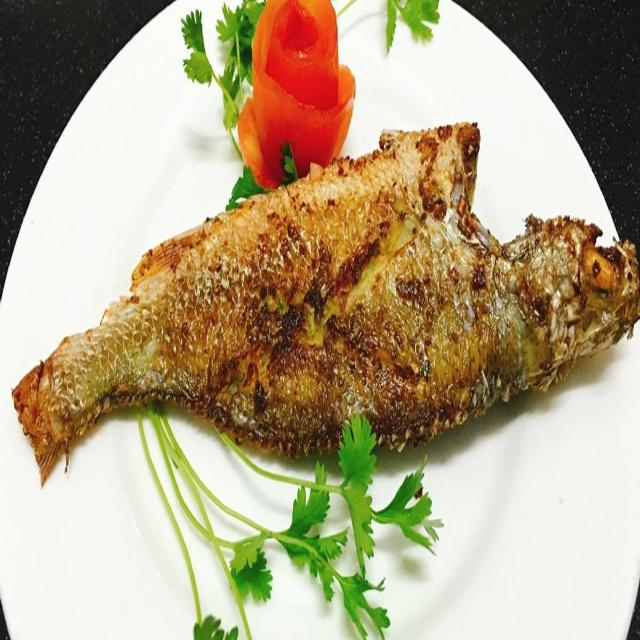ca chien: (12, 123, 639, 482)
